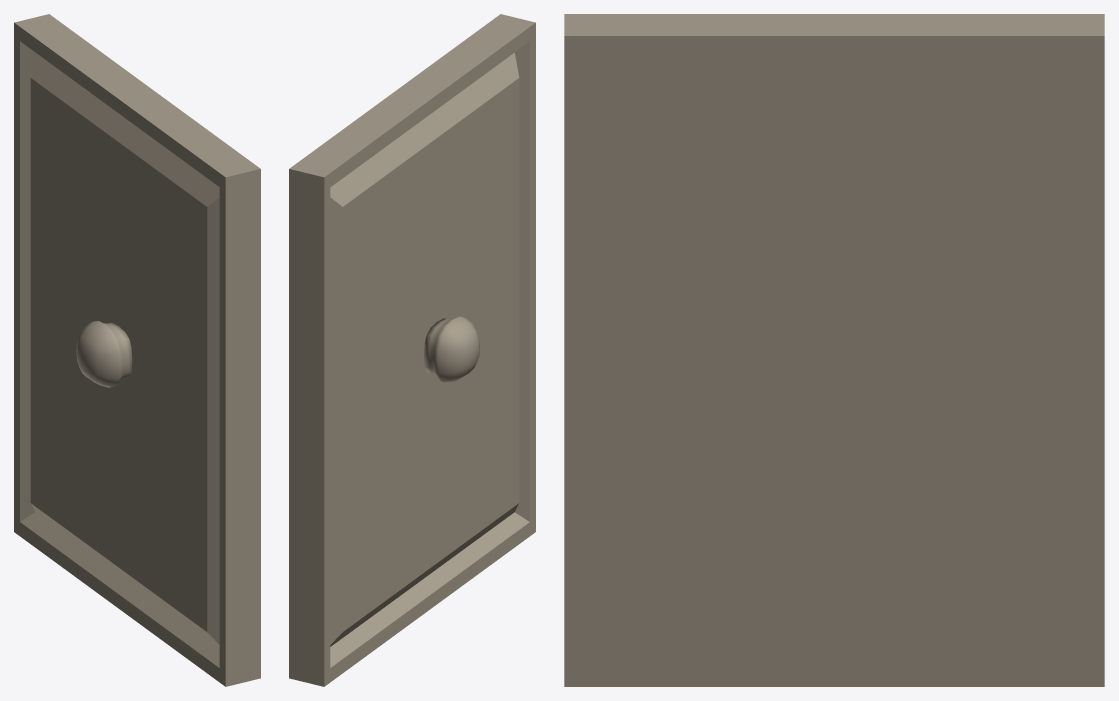
The model's file is Cupboard_02_Door_L_Lod0.fbx.
3 renders of one model, left to right at view 1: azimuth 30°, elevation 25°; view 2: azimuth 150°, elevation 25°; view 3: azimuth 270°, elevation 25°, orthographic. The views are drawn at different scales.
Visible parts, largest first — view 1: Cupboard_02_Door_L_Lod0; view 2: Cupboard_02_Door_L_Lod0; view 3: Cupboard_02_Door_L_Lod0.
Boxes of the visible parts, box(x1,y1,x2,y2) form: Cupboard_02_Door_L_Lod0: box(14, 14, 260, 686); Cupboard_02_Door_L_Lod0: box(289, 14, 535, 686); Cupboard_02_Door_L_Lod0: box(564, 14, 1104, 686).
Bounding box in the file's own units: 6.59 × 41.96 × 31.58.
